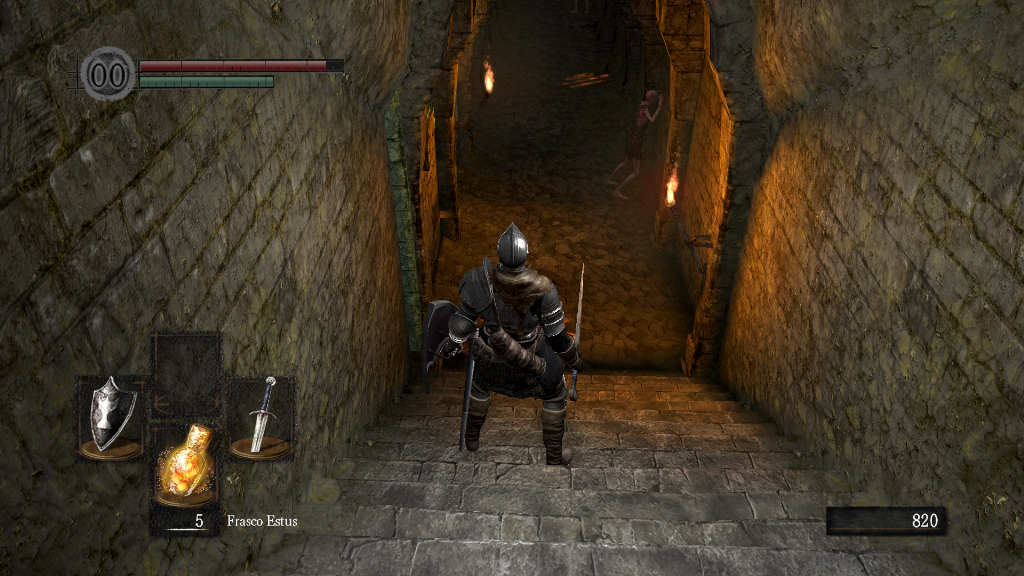health: (138, 58, 343, 71)
hollow: (602, 88, 664, 201)
humanity: (80, 45, 136, 102)
player: (420, 222, 586, 467)
souls: (825, 506, 945, 536)
stamina: (138, 74, 274, 88)
